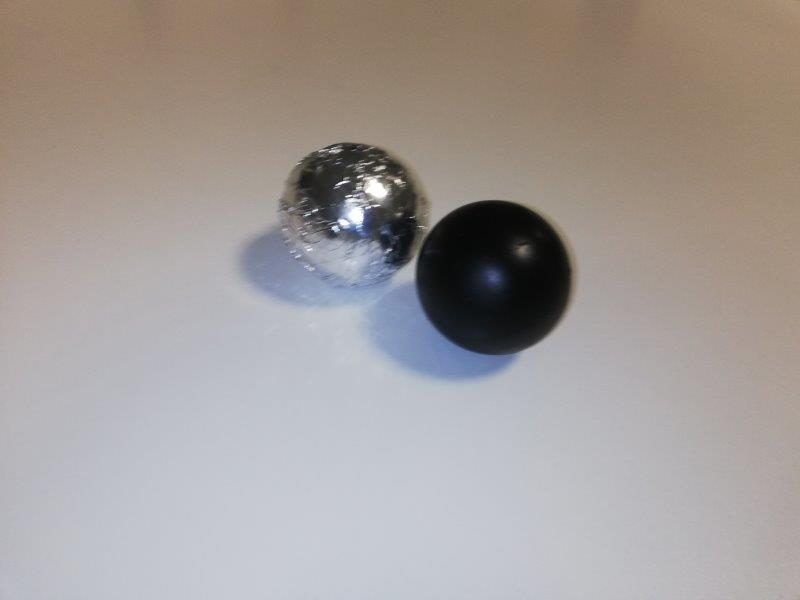bianca: (272, 142, 429, 290)
nera: (418, 200, 574, 357)
